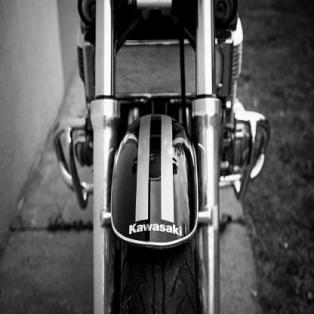Motocicleta: (51, 0, 277, 313)
